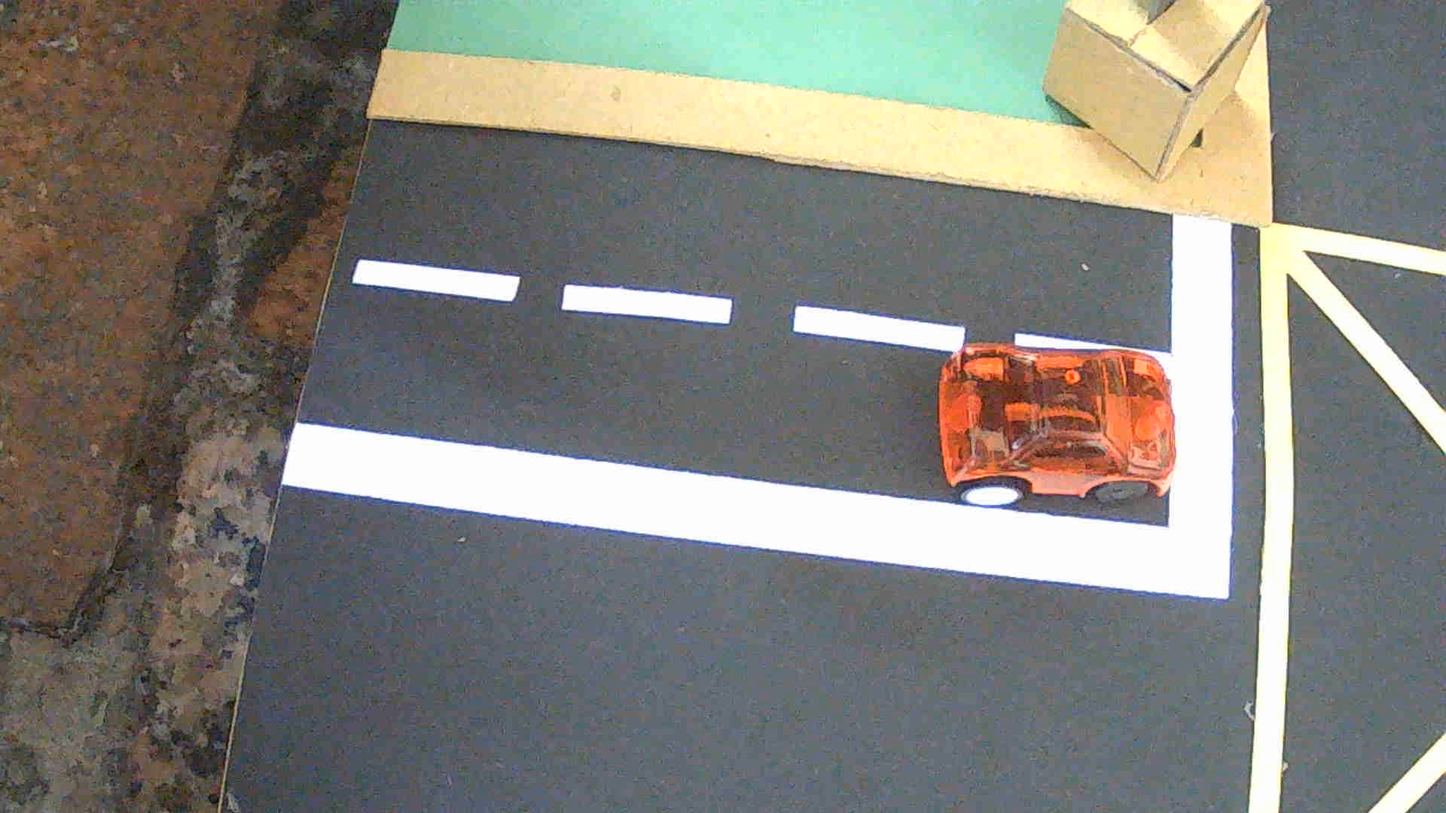Mobil merah: (938, 343, 1177, 505)
